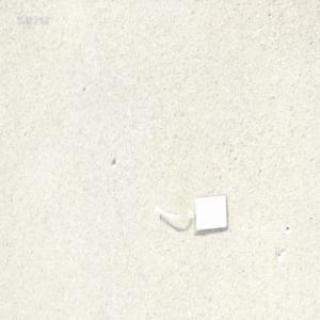LuggageTagtrack_idkeyframe: (152, 191, 227, 234)
